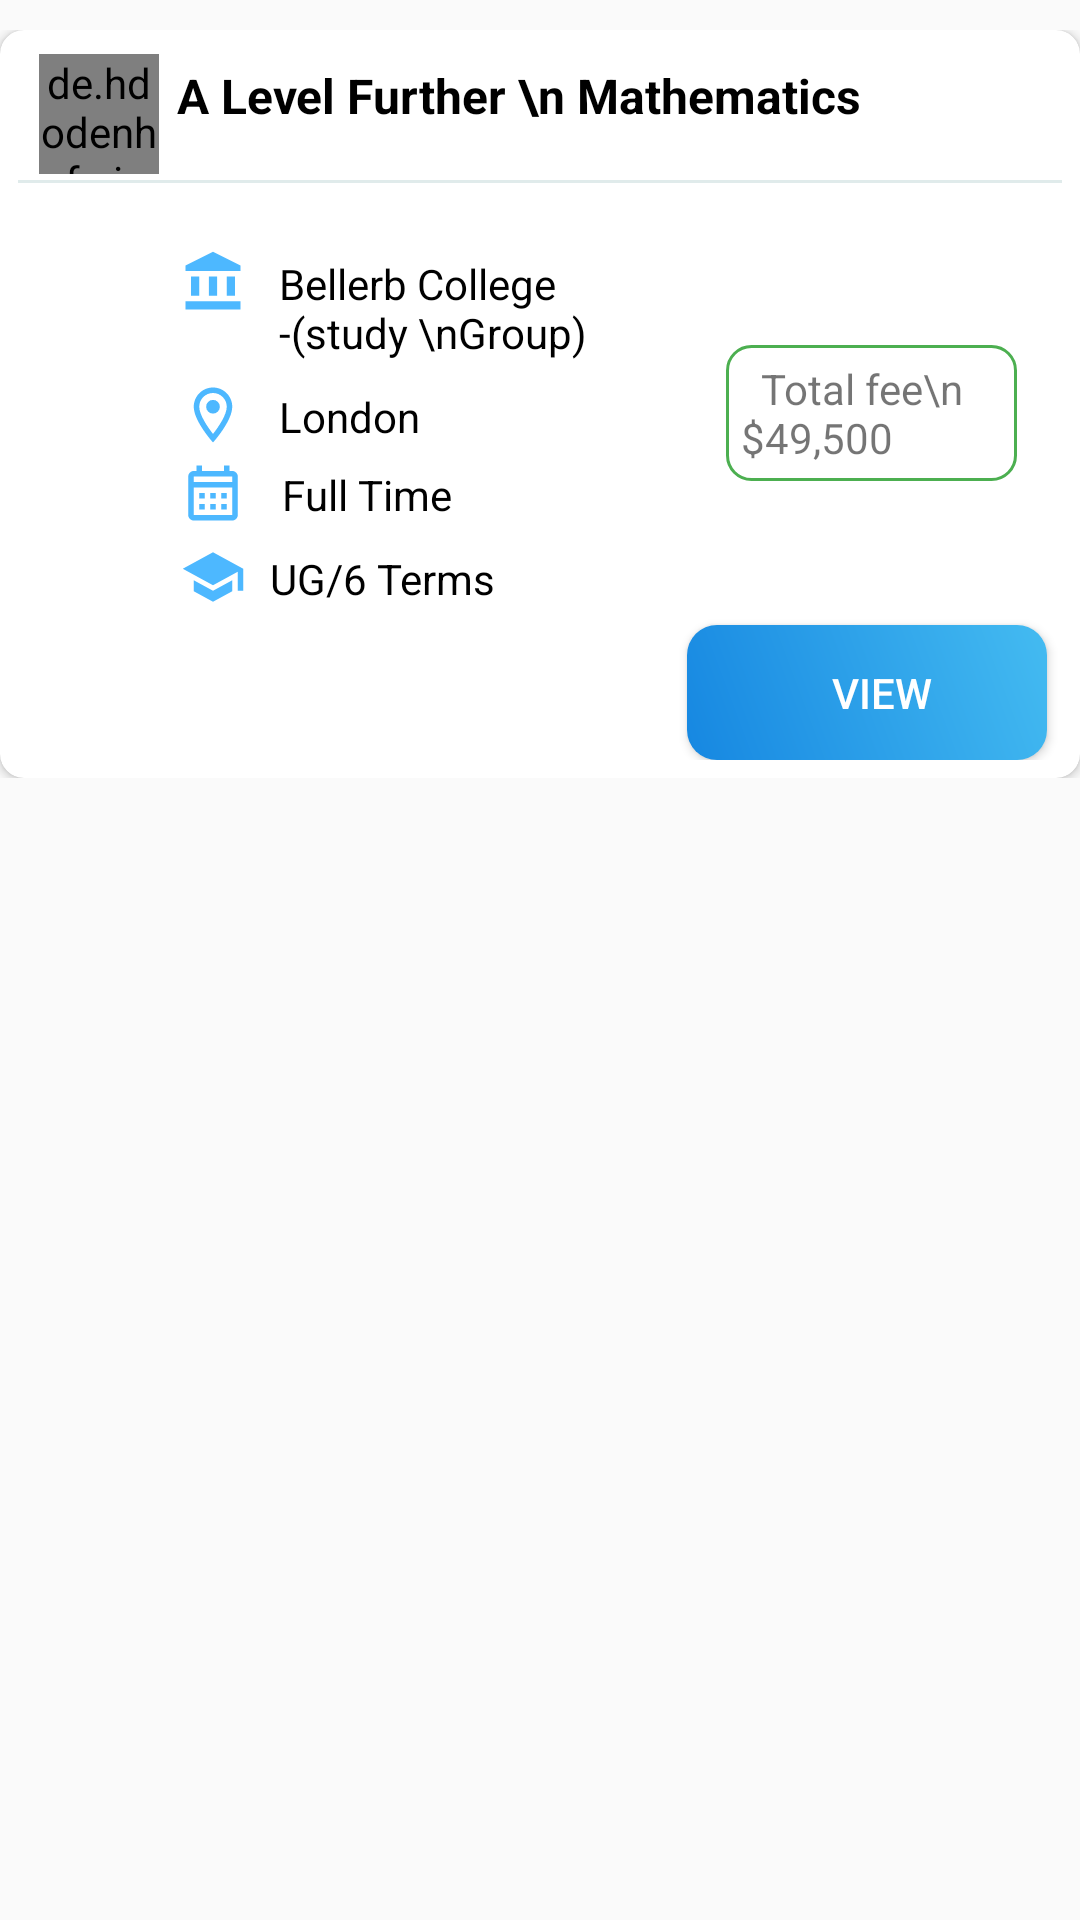

Named icons in this screenshot (1080px x 1920px) and their bounding boxes, (x1, y1, x2, y2):
calender: (188, 465, 238, 521)
location: (193, 387, 233, 442)
university name: (185, 252, 241, 310)
